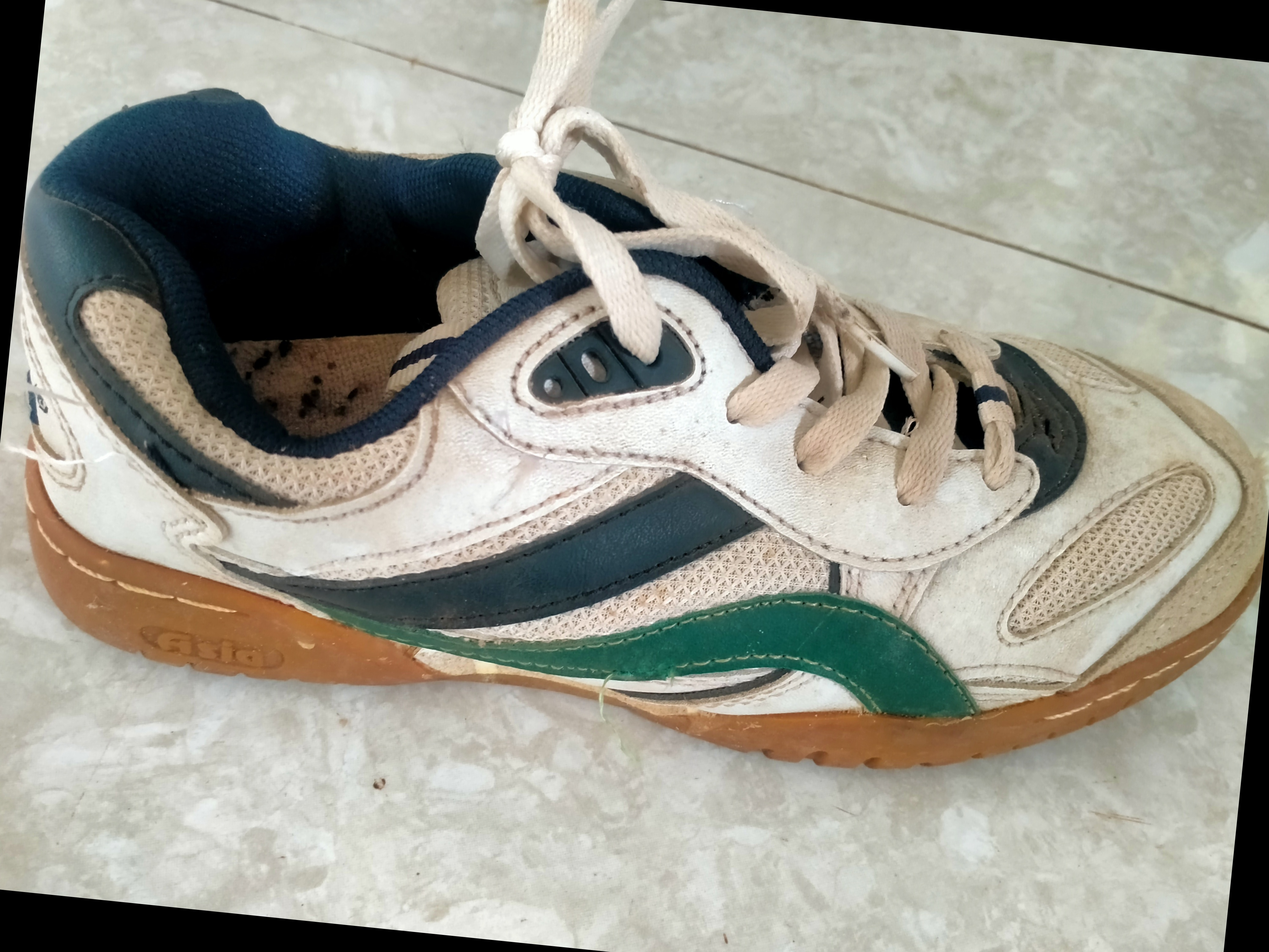broken: (609, 652, 692, 690)
